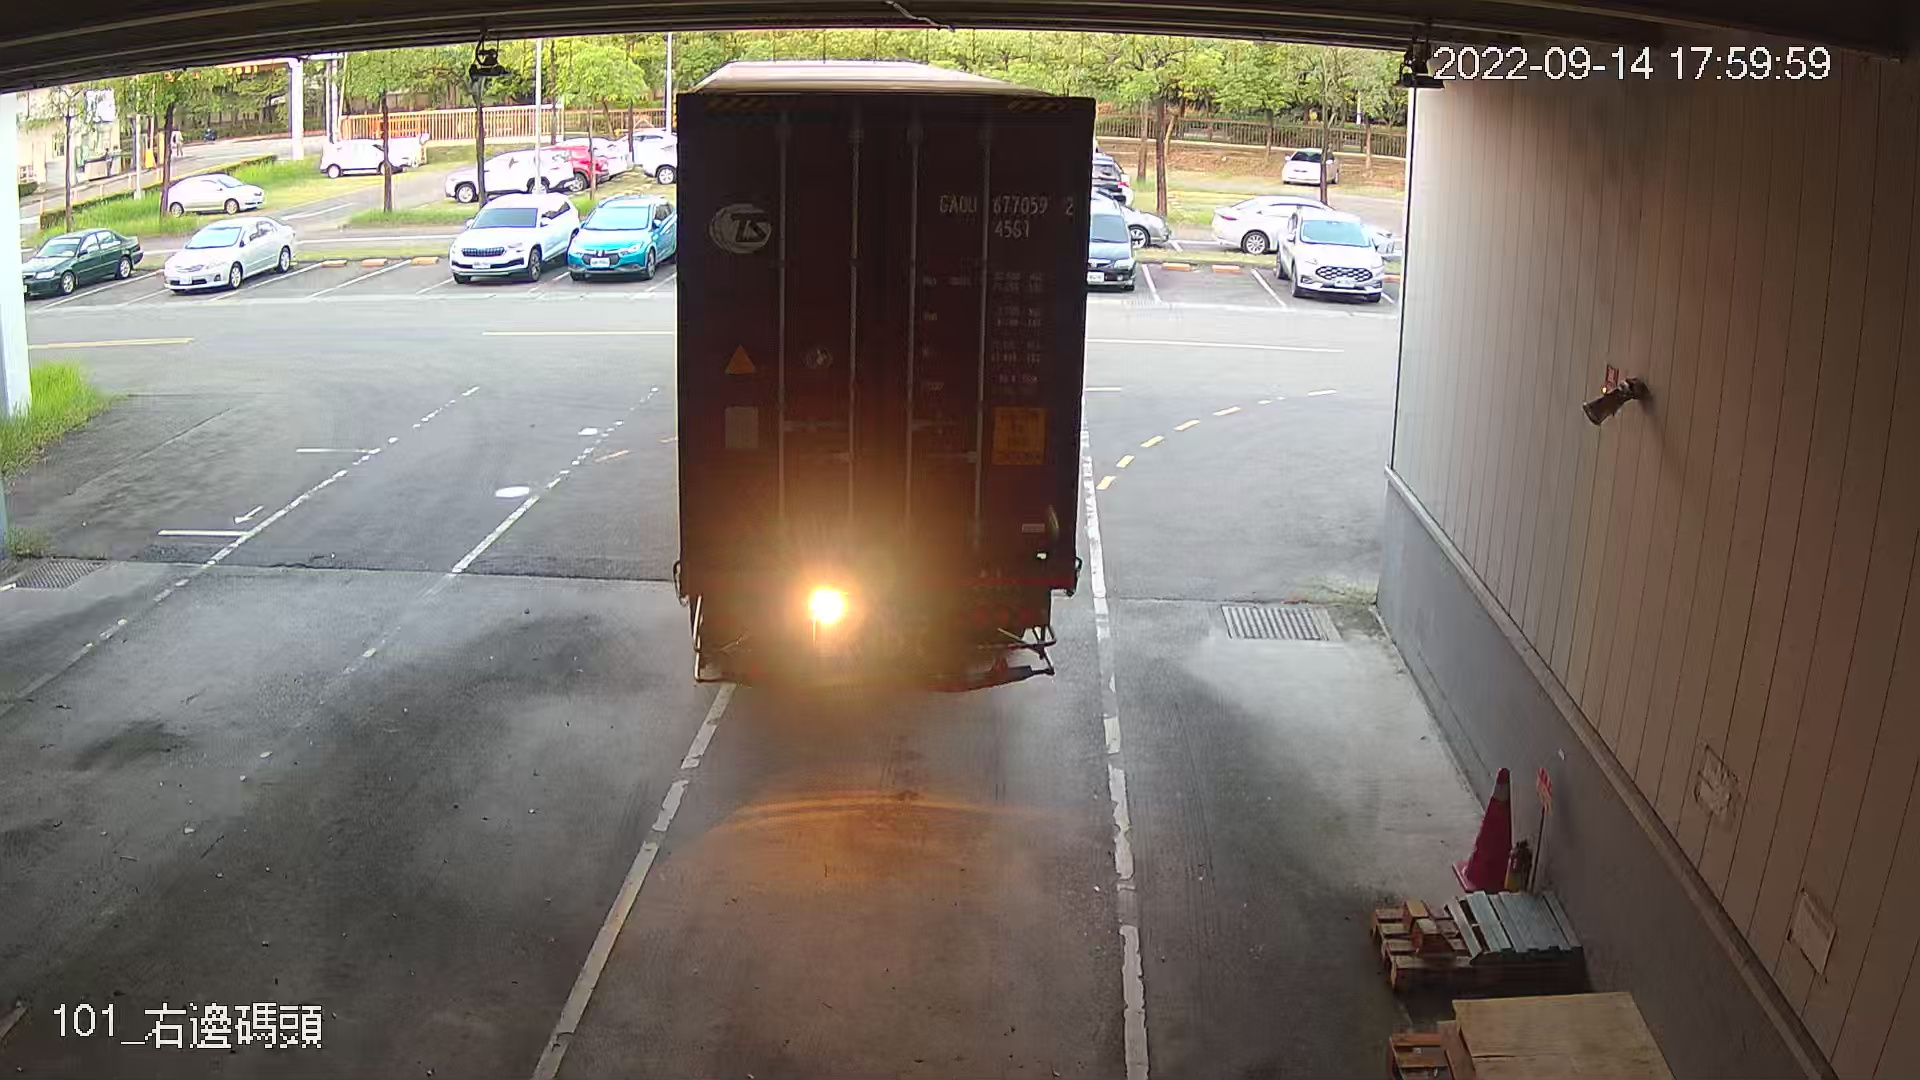container: (931, 185, 1081, 244)
